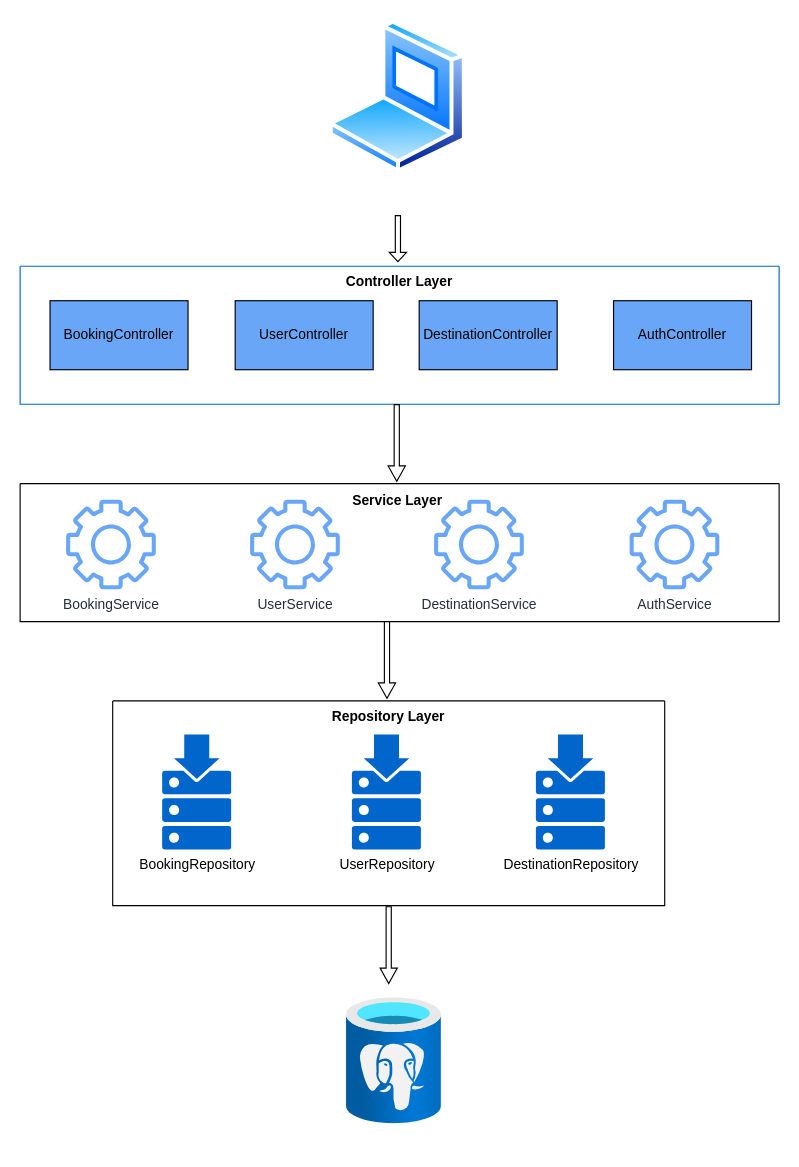
Some shapes in this 799 by 1167 pixel diagram are drawn without their labels. Each missing label, with the box of its shape:
Client: (328, 20, 466, 173)
PostgreSQL: (346, 997, 441, 1124)
